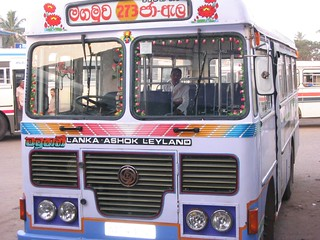bus: (15, 1, 300, 240)
